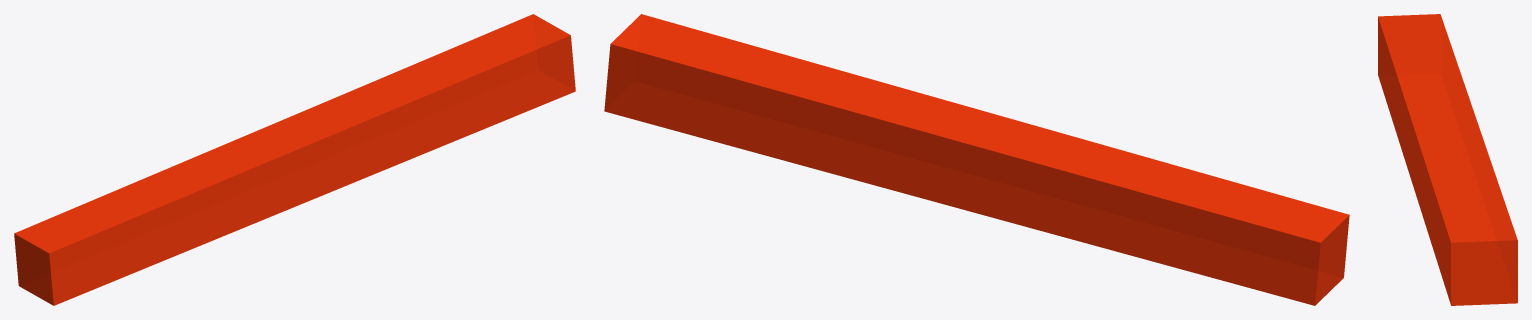
File: Event_421364160_EErechit_41.fbx
The picture shows the model from 3 angles, left to right: view 1: azimuth 30°, elevation 25°; view 2: azimuth 150°, elevation 25°; view 3: azimuth 270°, elevation 25°; orthographic projection. The views are drawn at different scales.
Visible parts, largest first — view 1: Model; view 2: Model; view 3: Model.
Part boxes in pixels (bbox=[...]): Model: bbox=[14, 14, 575, 305]; Model: bbox=[604, 14, 1349, 305]; Model: bbox=[1378, 14, 1517, 305].
Size of the model in its own units: 0.7973 by 0.1495 by 0.1615.
